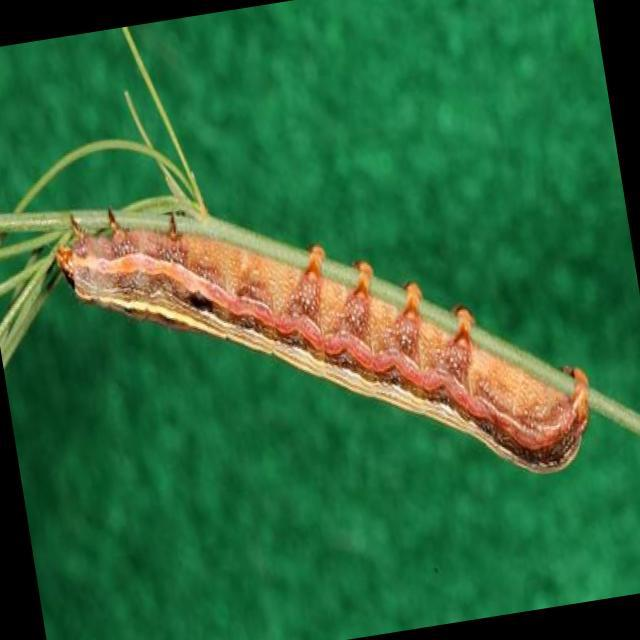Plaga: (47, 131, 614, 562)
